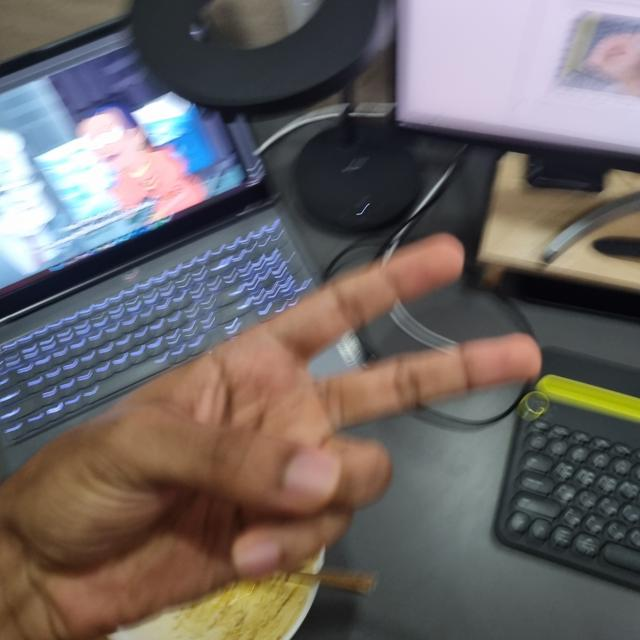Scissors: (0, 241, 539, 634)
